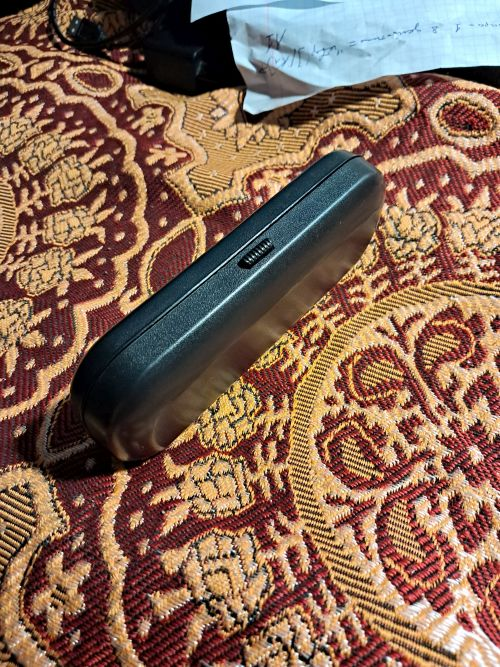case: (69, 149, 386, 465)
